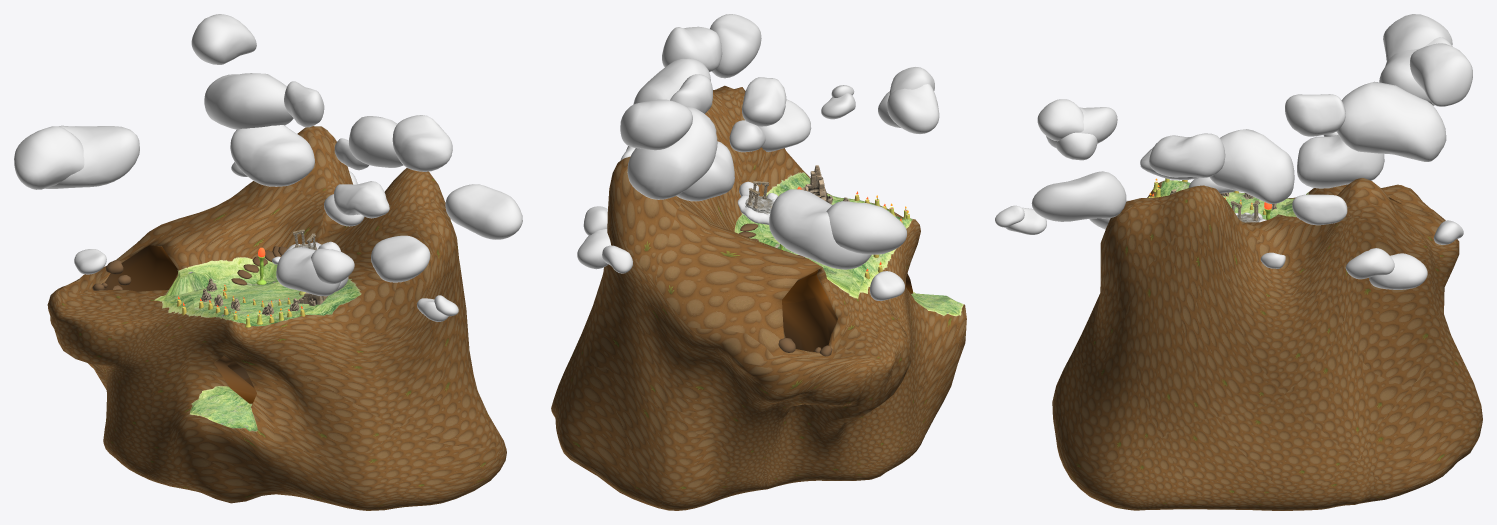
File: x0x0_isla_imposible_.glb
3 views of the same model, side by side, from view 1: azimuth 30°, elevation 25°; view 2: azimuth 150°, elevation 25°; view 3: azimuth 270°, elevation 25° (orthographic). The views are drawn at different scales.
Visible parts, largest first — view 1: piedra.114, nubes isla imposible, pastito_base_plana4, roca.001; view 2: piedra.114, nubes isla imposible, pastito_base_plana4, AltarDJ, RocasGrandes; view 3: piedra.114, nubes isla imposible, pastito_base_plana4.
Boxes of the visible parts, box(x1,y1,x2,y2) form: piedra.114: box(47, 126, 506, 510); nubes isla imposible: box(14, 14, 522, 321); pastito_base_plana4: box(154, 257, 361, 431); roca.001: box(201, 278, 299, 315); piedra.114: box(551, 85, 966, 510); nubes isla imposible: box(577, 14, 939, 300); pastito_base_plana4: box(734, 172, 963, 316); AltarDJ: box(745, 181, 773, 214); RocasGrandes: box(801, 165, 833, 203); piedra.114: box(1052, 178, 1482, 510); nubes isla imposible: box(995, 14, 1472, 289); pastito_base_plana4: box(1154, 180, 1308, 219).
Bounding box in the file's own units: 197 × 193 × 214.
10 materials, 9 textured.
